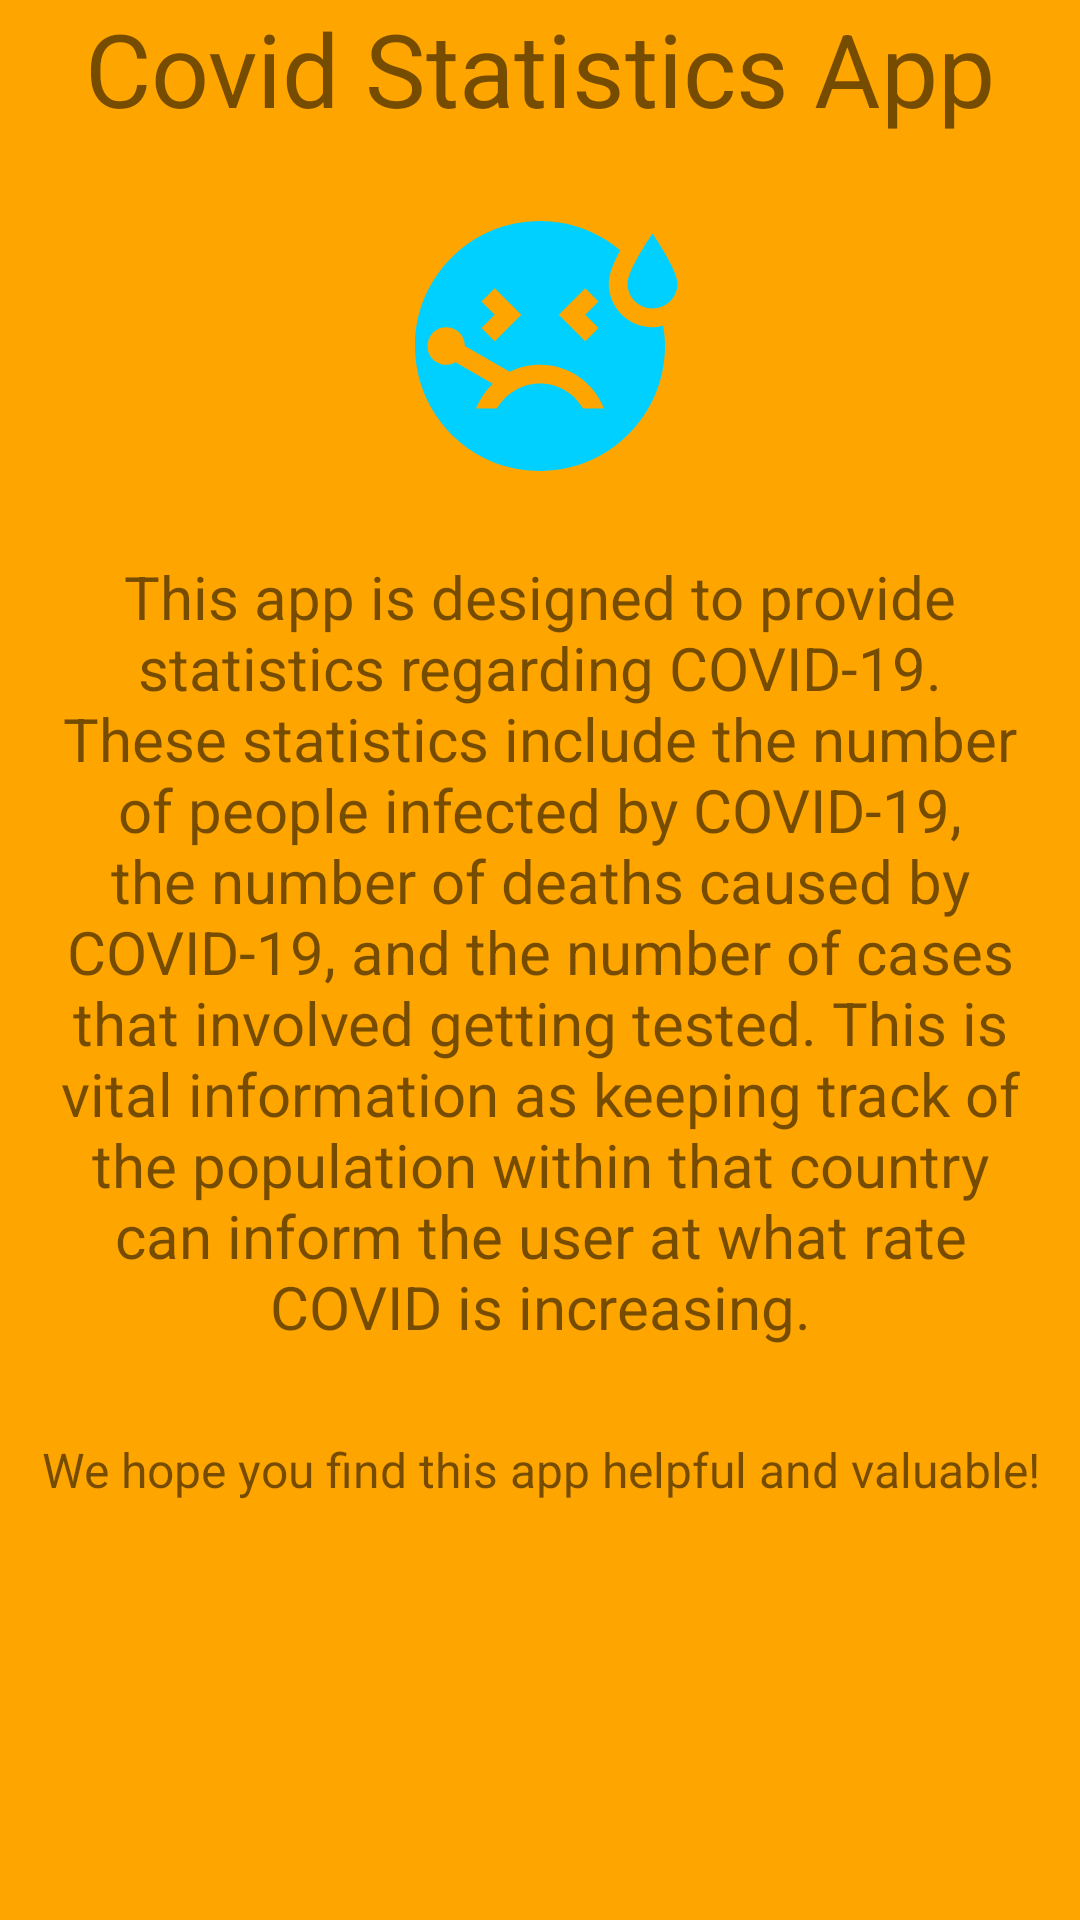

Point at icon controls on the screen. Image size 1080×1920, points as [x,y].
sick: [546,346]
